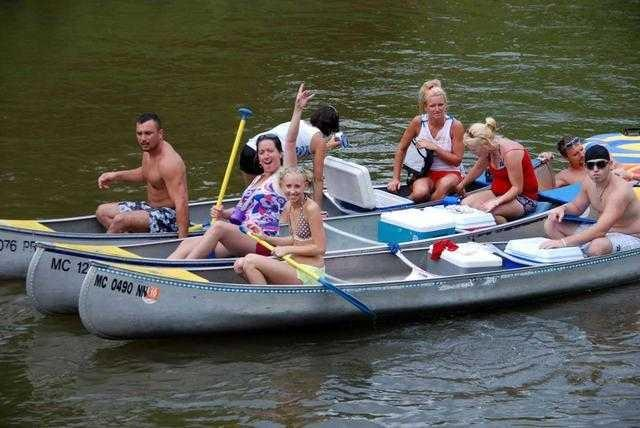kayak: (4, 182, 637, 340), (582, 130, 640, 180)
